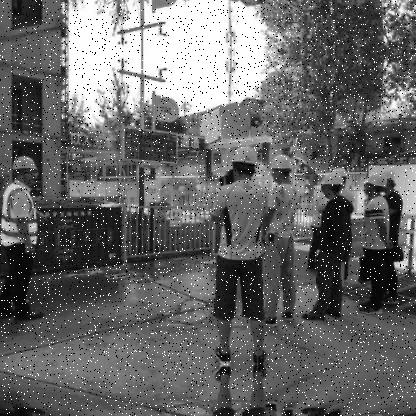Helmet: (228, 142, 268, 181), (267, 154, 297, 186), (12, 154, 40, 184), (318, 169, 343, 200), (368, 169, 393, 200), (374, 162, 397, 191)
